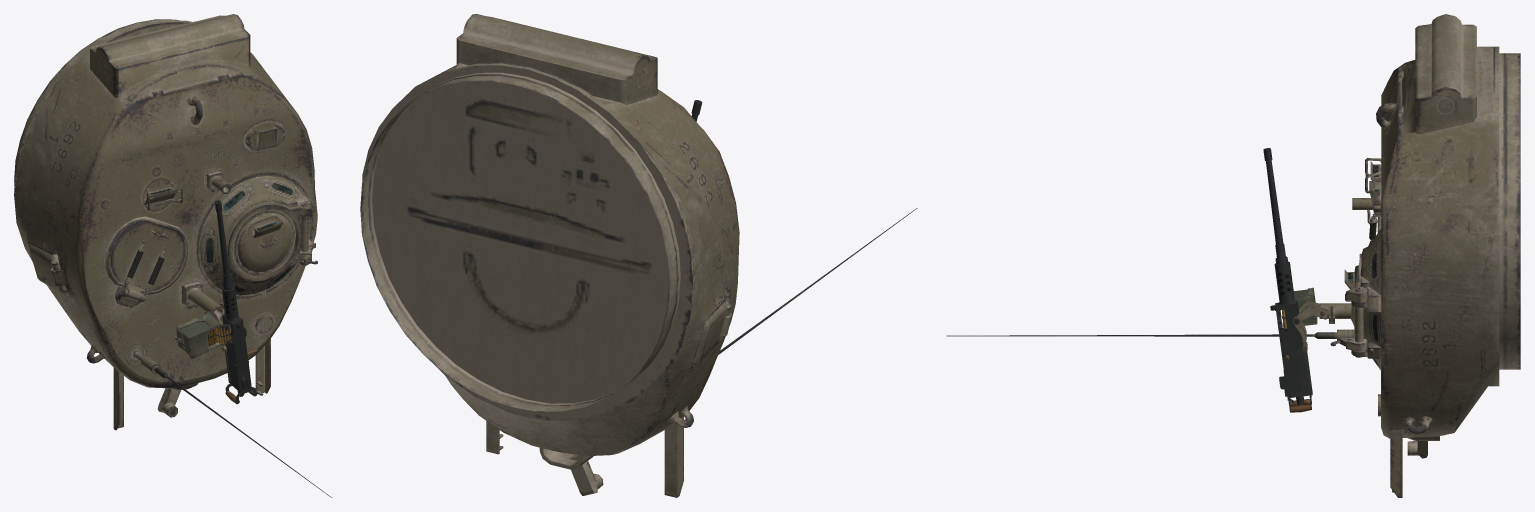
File: Turret_02.glb
3 views of the same model, side by side, from view 1: azimuth 30°, elevation 25°; view 2: azimuth 150°, elevation 25°; view 3: azimuth 270°, elevation 25° (orthographic). The views are drawn at different scales.
Visible parts, largest first — view 1: set_0_group_0; view 2: set_0_group_0; view 3: set_0_group_0.
Part boxes in pixels (x1,y1,x2,y2): set_0_group_0: [14, 14, 331, 497]; set_0_group_0: [360, 14, 917, 497]; set_0_group_0: [946, 14, 1520, 497].
Size of the model in its own units: 2.07 by 2.79 by 3.5.
Materials: 1 (1 with a texture image).
